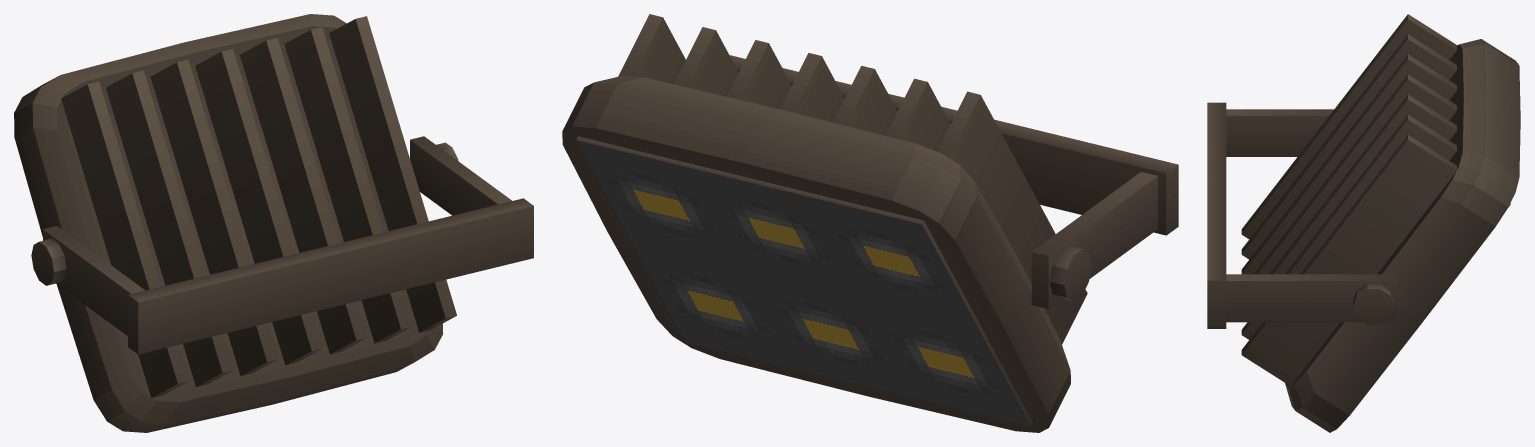
The model's file is floodlight_geefmyk.obj.
The picture shows the model from 3 angles, left to right: view 1: azimuth 30°, elevation 25°; view 2: azimuth 150°, elevation 25°; view 3: azimuth 270°, elevation 25°; orthographic projection. The views are drawn at different scales.
Parts seen in each view (by area): view 1: fixture; view 2: fixture; view 3: fixture.
Boxes of the visible parts, bbox=[...] form: fixture: bbox=[14, 14, 533, 432]; fixture: bbox=[562, 14, 1178, 432]; fixture: bbox=[1207, 14, 1520, 432].
Bounding box in the file's own units: 0.7107 × 0.5375 × 0.5146.
